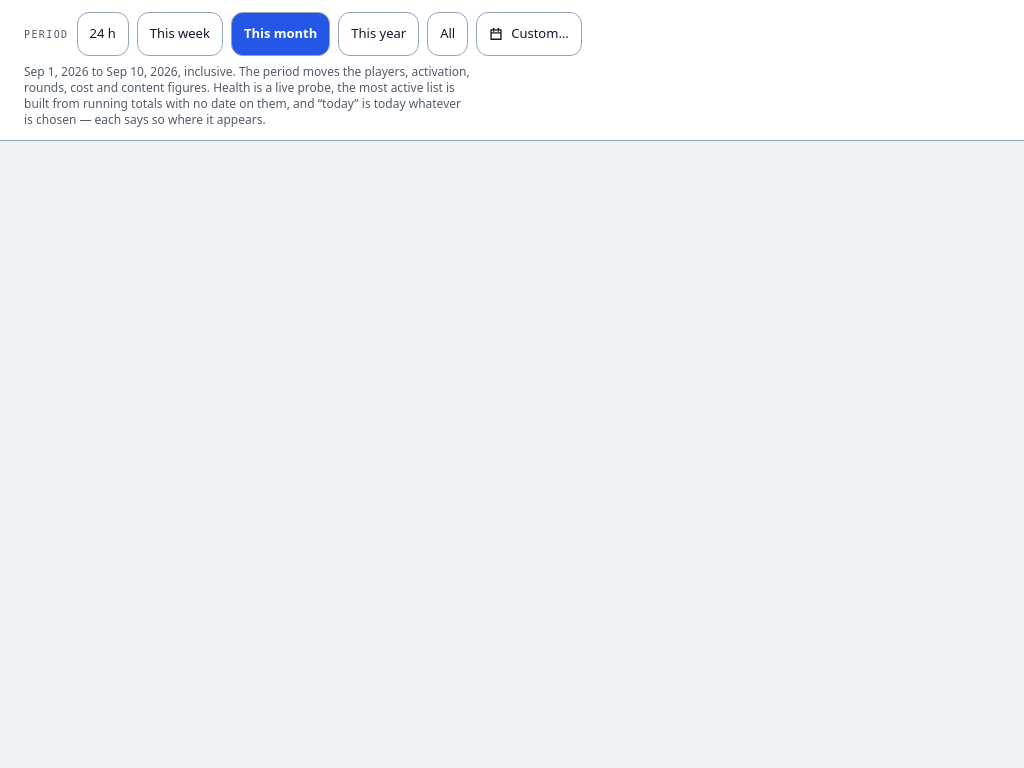
K.2 — the custom period › asks for the two dates with a GET form, so the browser navigates
Click the button "Custom…". click: [529, 34]
box: [476,12,582,56]
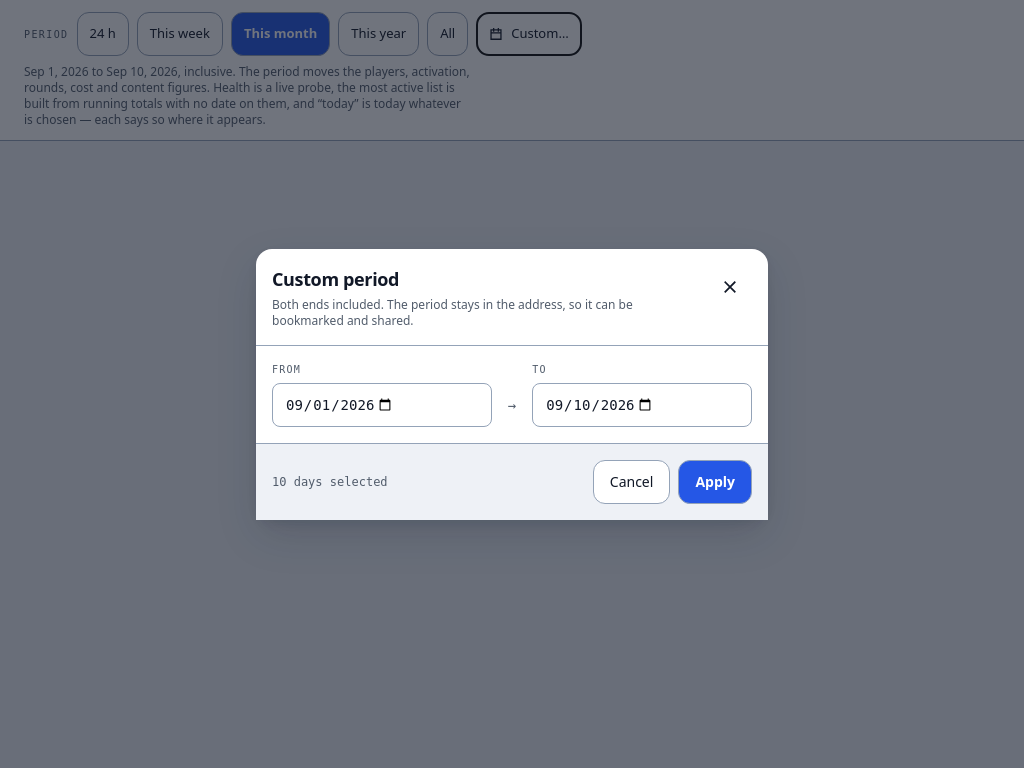
Expected: the dialog named "range" holds "custom", [256,248,768,520]
